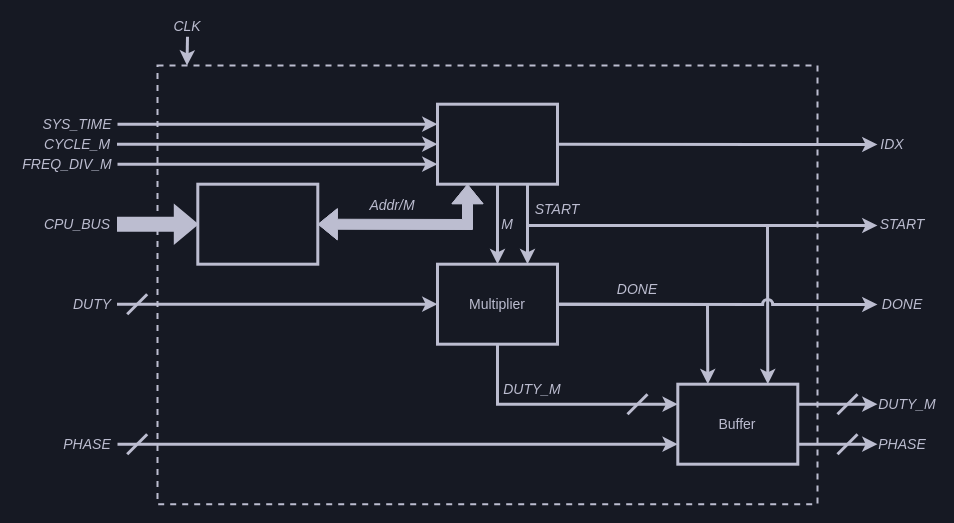
Some shapes in this 954 by 523 pixel diagram are drawn without their labels. The shapes that lost their labels are listed below. From the top down, each one's box as (x1, y1, x2, y2) in pixels, then its label:
(436, 102, 558, 185): Sampler
(196, 182, 319, 265): Memory
